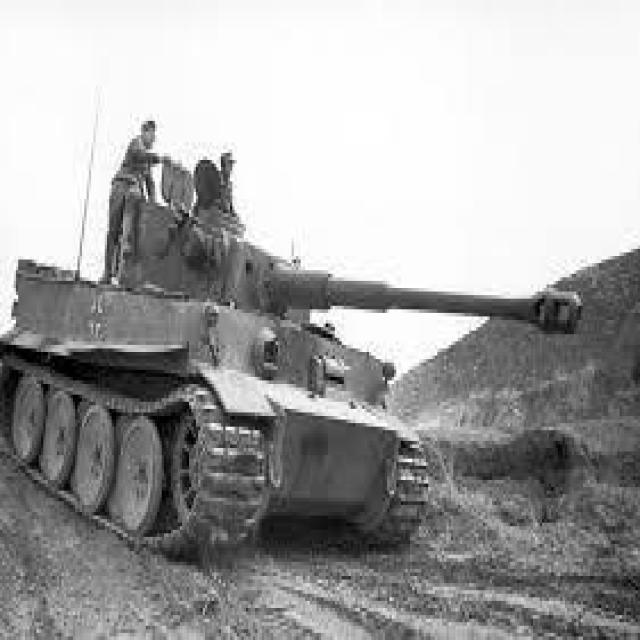Tanks: (1, 98, 521, 567), (9, 55, 66, 80)
